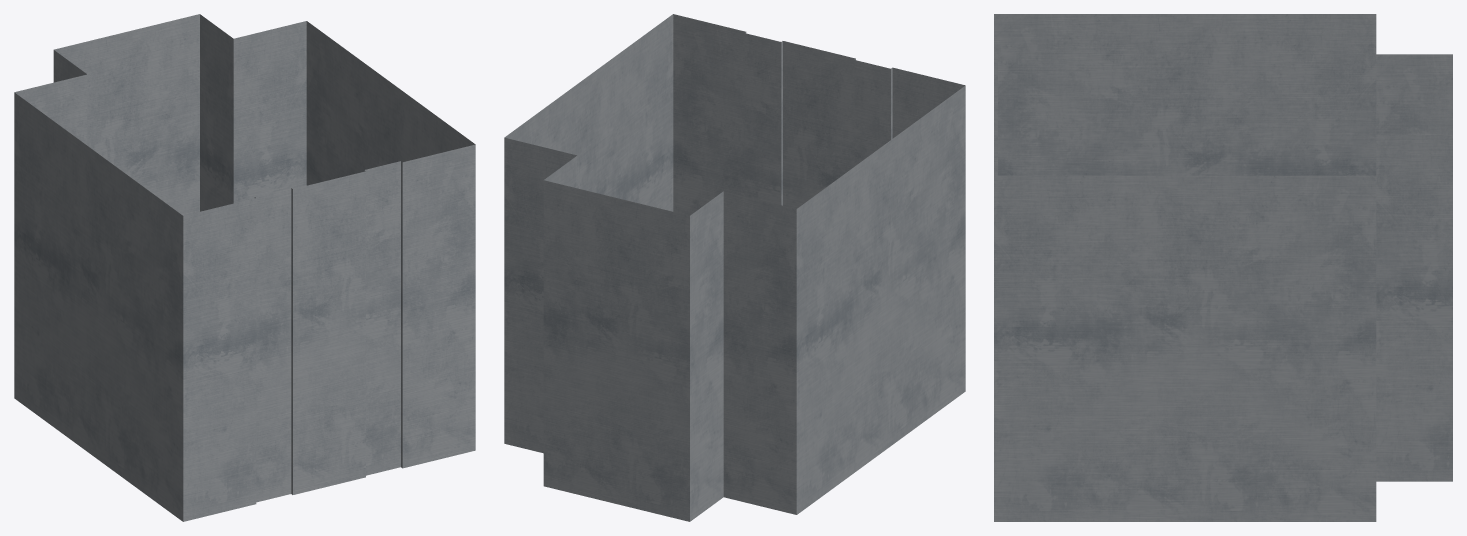
Rendered from Console-Type-1-Body.obj.
3 renders of one model, left to right at view 1: azimuth 30°, elevation 25°; view 2: azimuth 150°, elevation 25°; view 3: azimuth 270°, elevation 25°, orthographic. The views are drawn at different scales.
Parts seen in each view (by area): view 1: Console-Type-1-Body; view 2: Console-Type-1-Body; view 3: Console-Type-1-Body.
Part boxes in pixels (x1=…): Console-Type-1-Body: x1=14, y1=14, x2=475, y2=521; Console-Type-1-Body: x1=504, y1=14, x2=965, y2=521; Console-Type-1-Body: x1=994, y1=14, x2=1452, y2=521.
Bounding box in the file's own units: 1 × 1 × 1.2.
